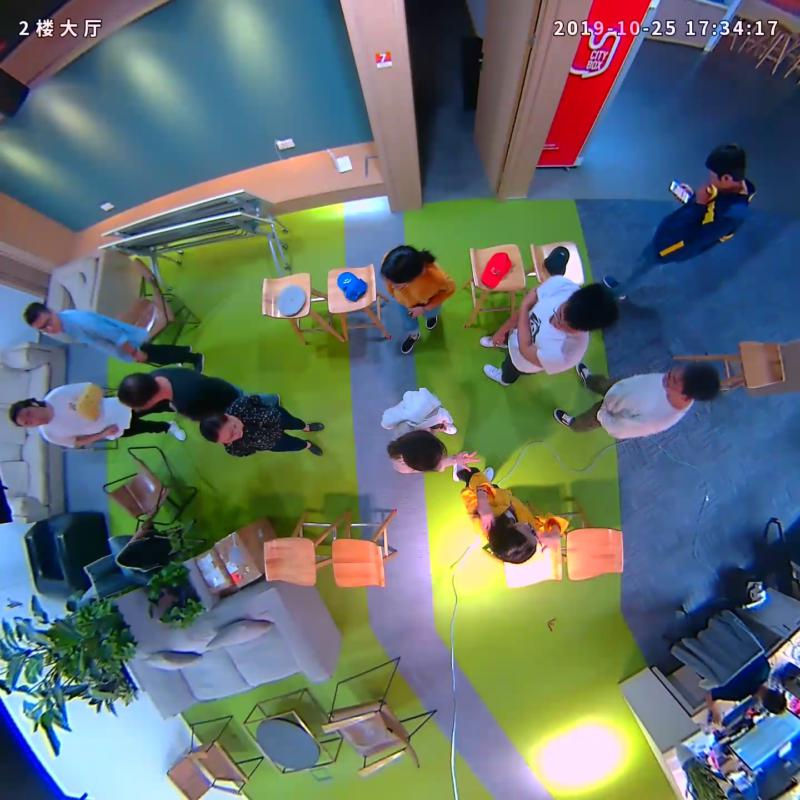head: (551, 284, 616, 333), (661, 361, 720, 401), (399, 429, 444, 472), (704, 143, 745, 190), (380, 245, 423, 287), (499, 521, 537, 564), (117, 371, 161, 407), (199, 412, 243, 443), (23, 300, 61, 334), (9, 399, 49, 429)
